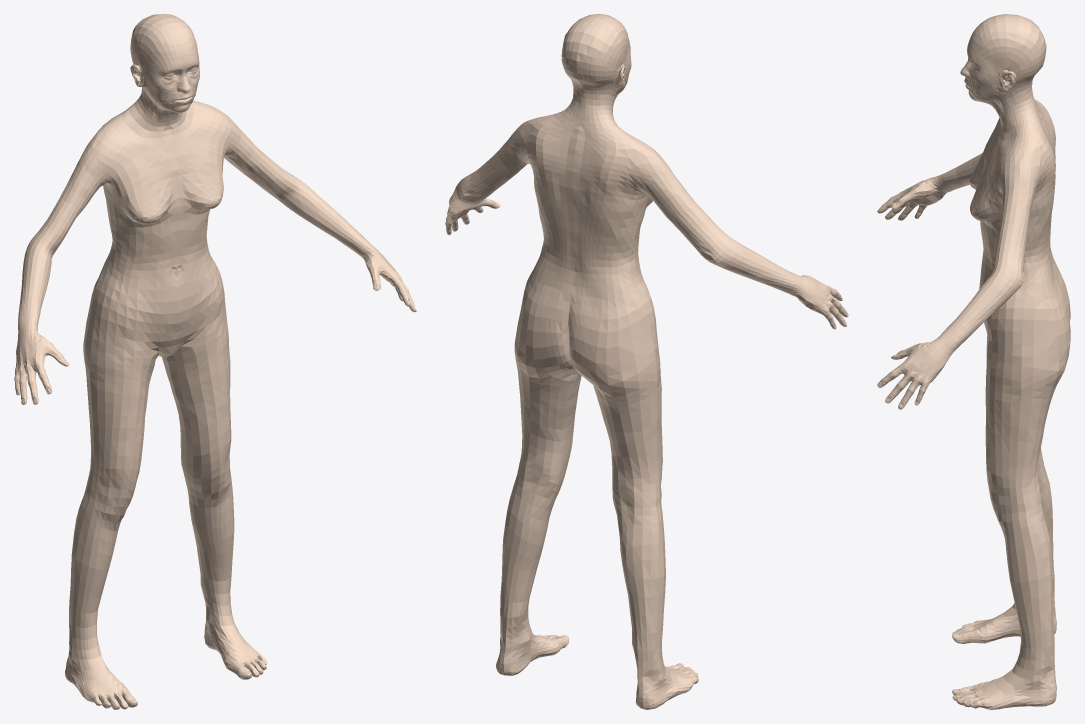
File: female-older-fit-toned.glb
3 renders of one model, left to right at view 1: azimuth 30°, elevation 25°; view 2: azimuth 150°, elevation 25°; view 3: azimuth 270°, elevation 25°, orthographic.
Visible parts, largest first — view 1: world; view 2: world; view 3: world.
Boxes of the visible parts, box(x1,y1,x2,y2) form: world: box(14, 14, 416, 709); world: box(445, 14, 848, 709); world: box(877, 14, 1070, 709).
Size of the model in its own units: 1.13 by 1.8 by 0.484.
